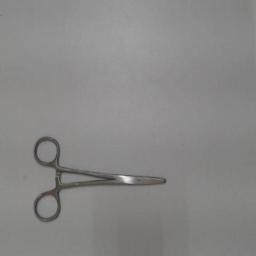Mayo Needle Holder: (30, 131, 174, 227)
